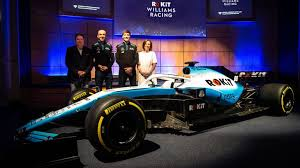FormulaOneCar: (9, 59, 296, 161)
